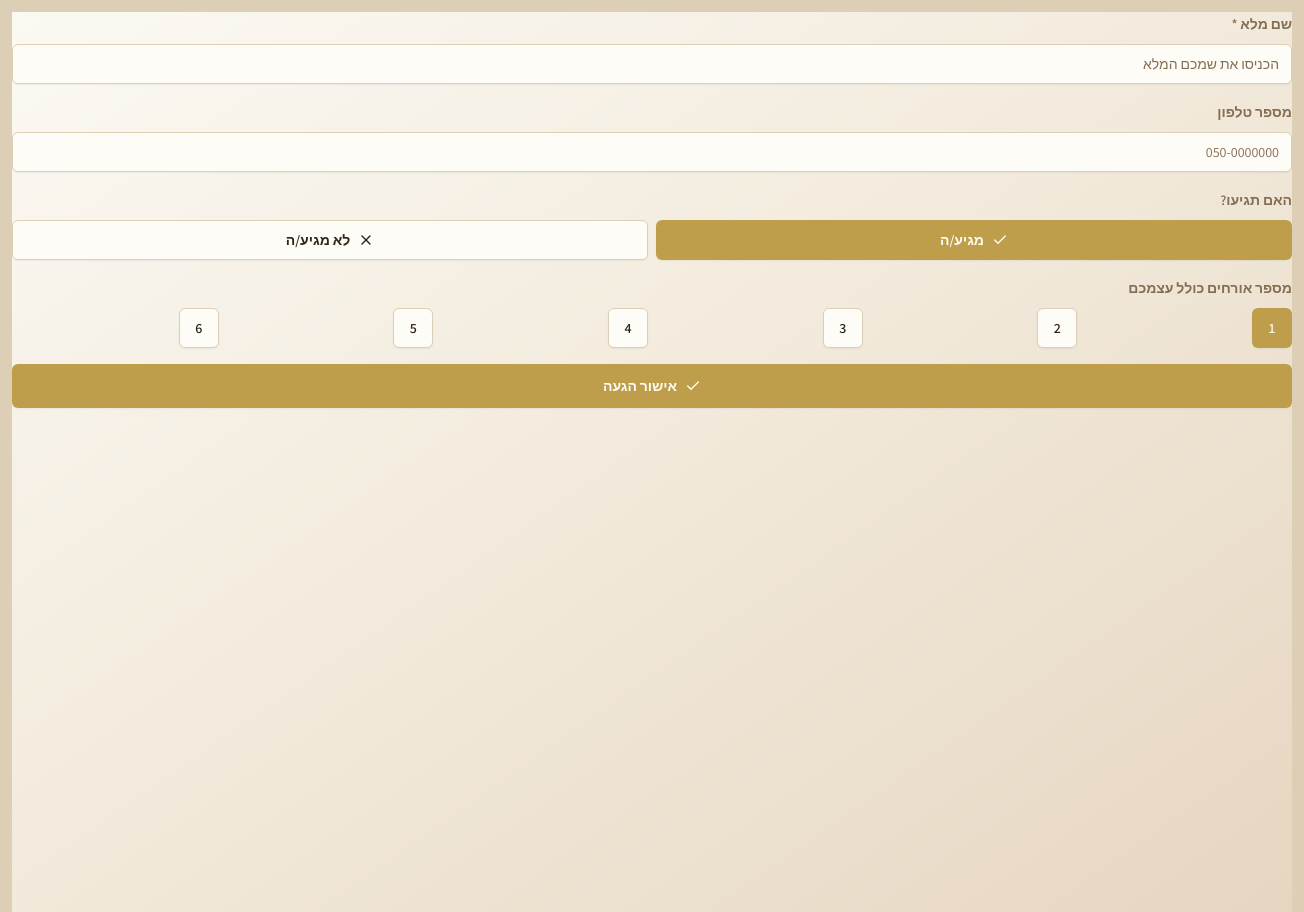
RsvpForm › validates required name before submission
Click the button "אישור הגעה" at {"x": 652, "y": 386}, box [12,364,1292,408]
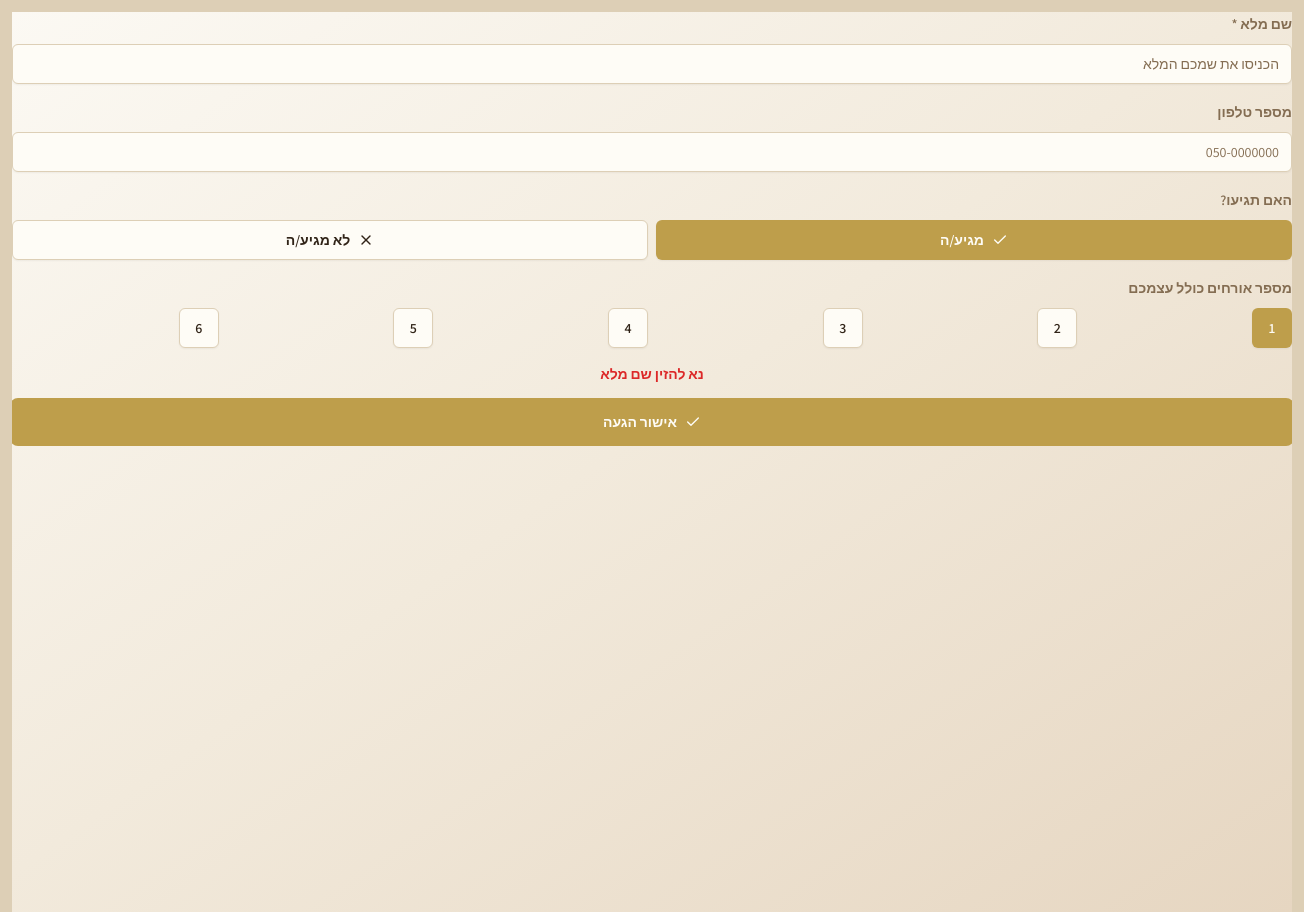
Expected: the text "נא להזין שם מלא" is shown, [600,365,704,383]
